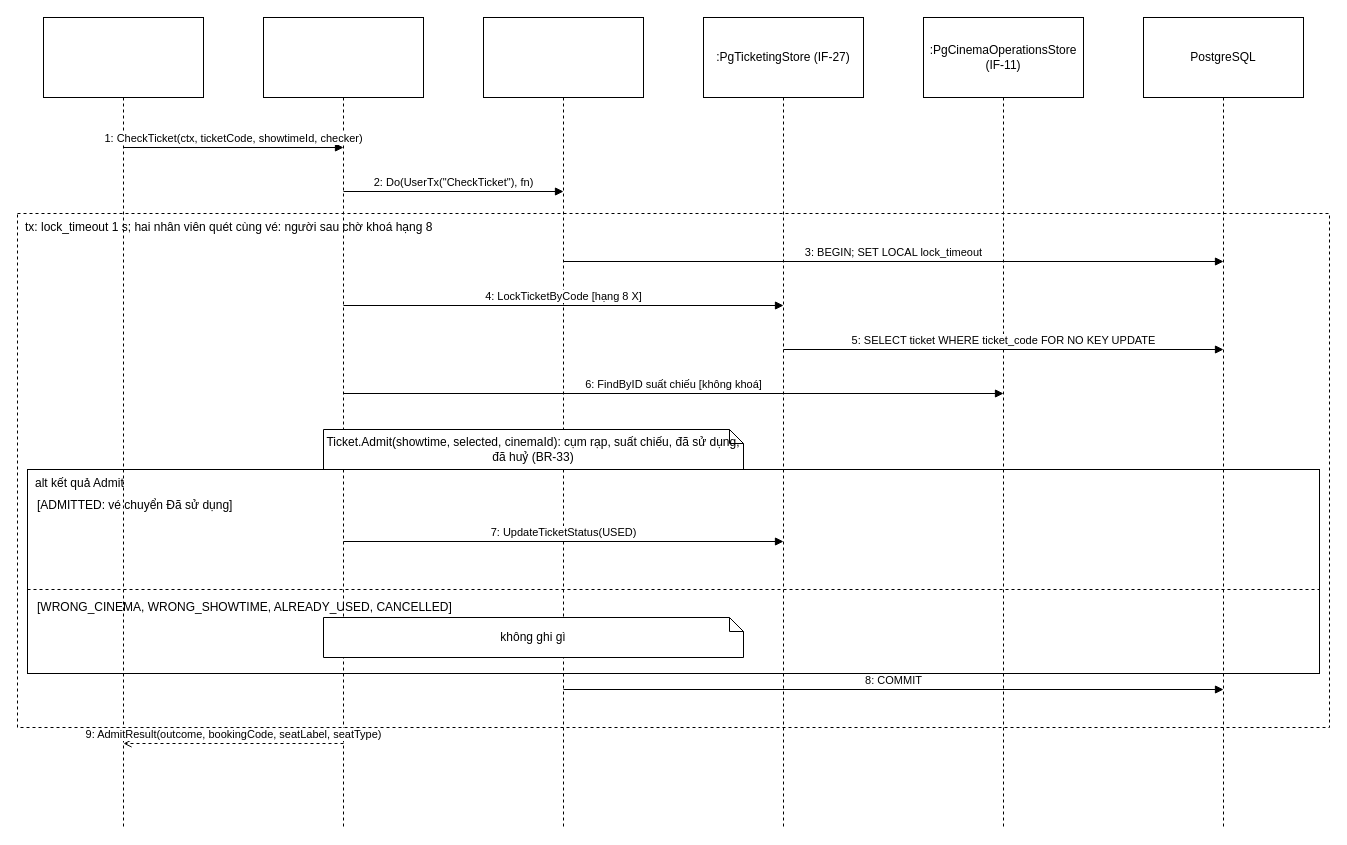
Some shapes in this 1347 by 845 pixel diagram are drawn without their labels. The shapes that lost their labels are listed below. From the top down, each one's box as (x1, y1, x2, y2) in pixels, then its label:
(42, 16, 204, 828): :TicketController (PKG-11, tham chiếu)
(262, 16, 424, 828): :CheckTicketService
(482, 16, 644, 828): :PgUnitOfWork (IF-08)
